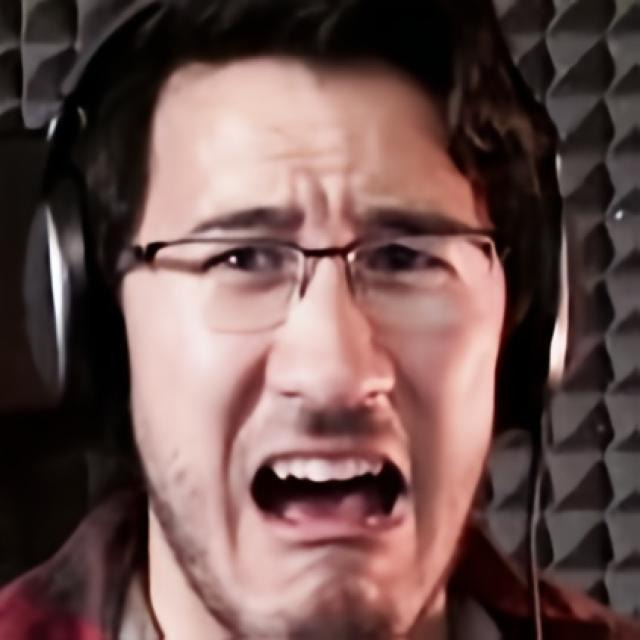fear: (122, 56, 510, 640)
